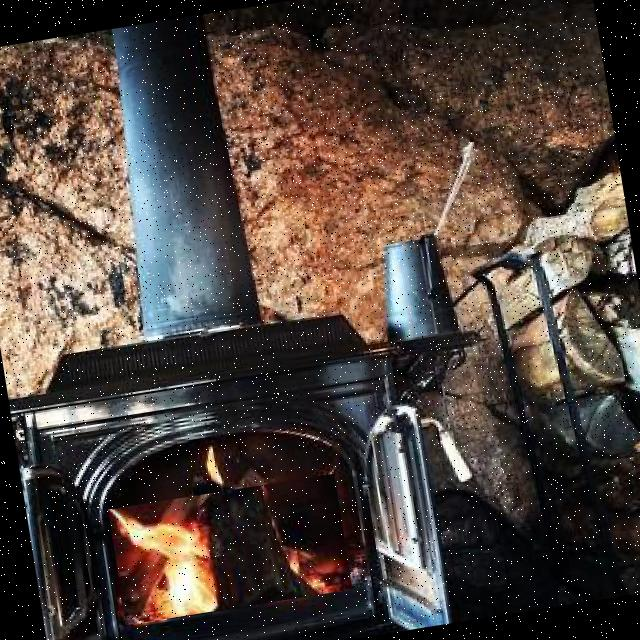fire: (109, 474, 352, 625)
